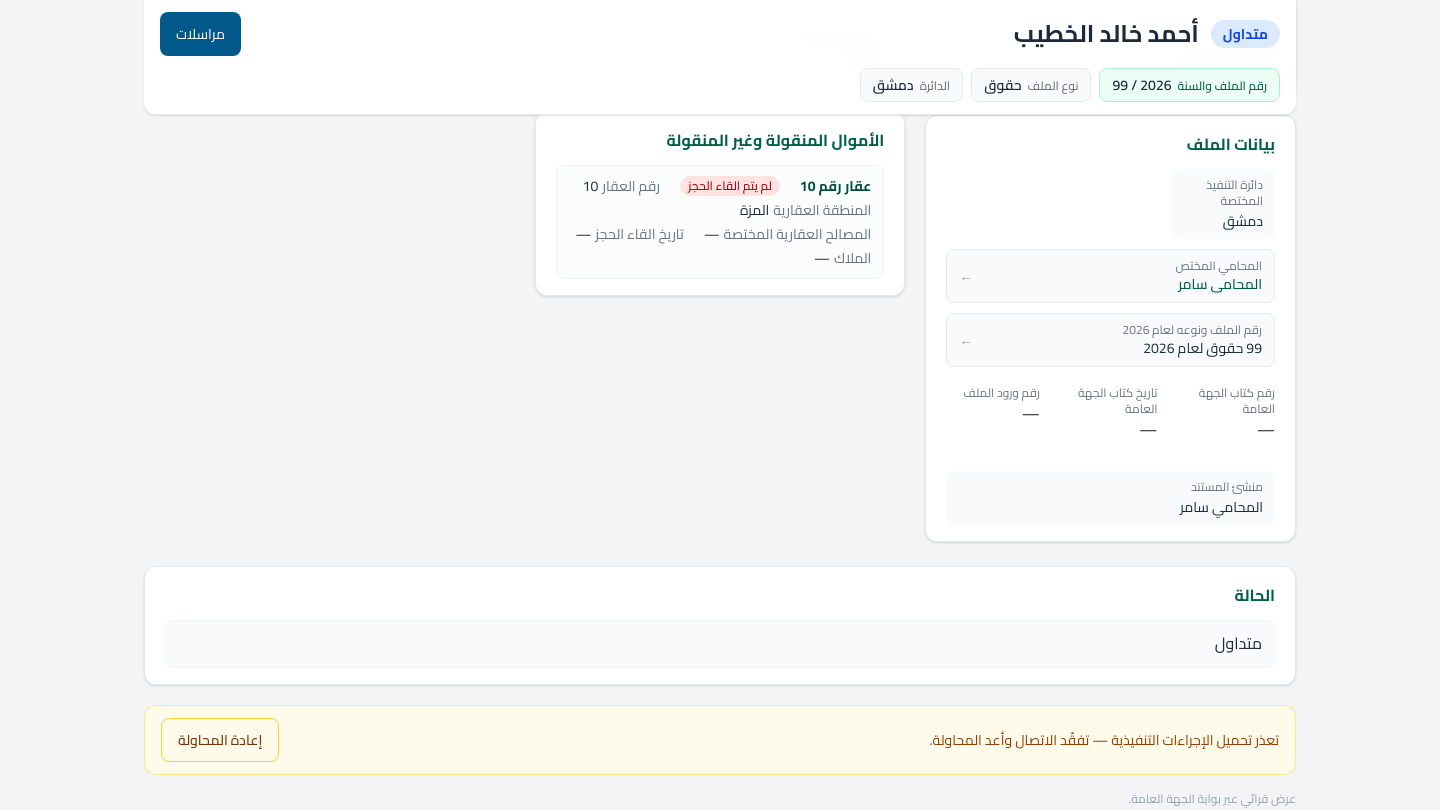
Test: PortalFileDetail المرآة القرائية › يعرض شريط إعادة المحاولة عند تعذر تحميل الإجراءات التنفيذية ثم يعيد التحميل بنجاح
(page scrolled)
Expected: the text "تعذر تحميل الإجراءات التنفيذية — تفقّد الاتصال وأعد المحاولة." is shown, x1=930 y1=730 x2=1279 y2=750
Click the button "إعادة المحاولة": x=220, y=740 x1=161 y1=718 x2=279 y2=762
(page scrolled)
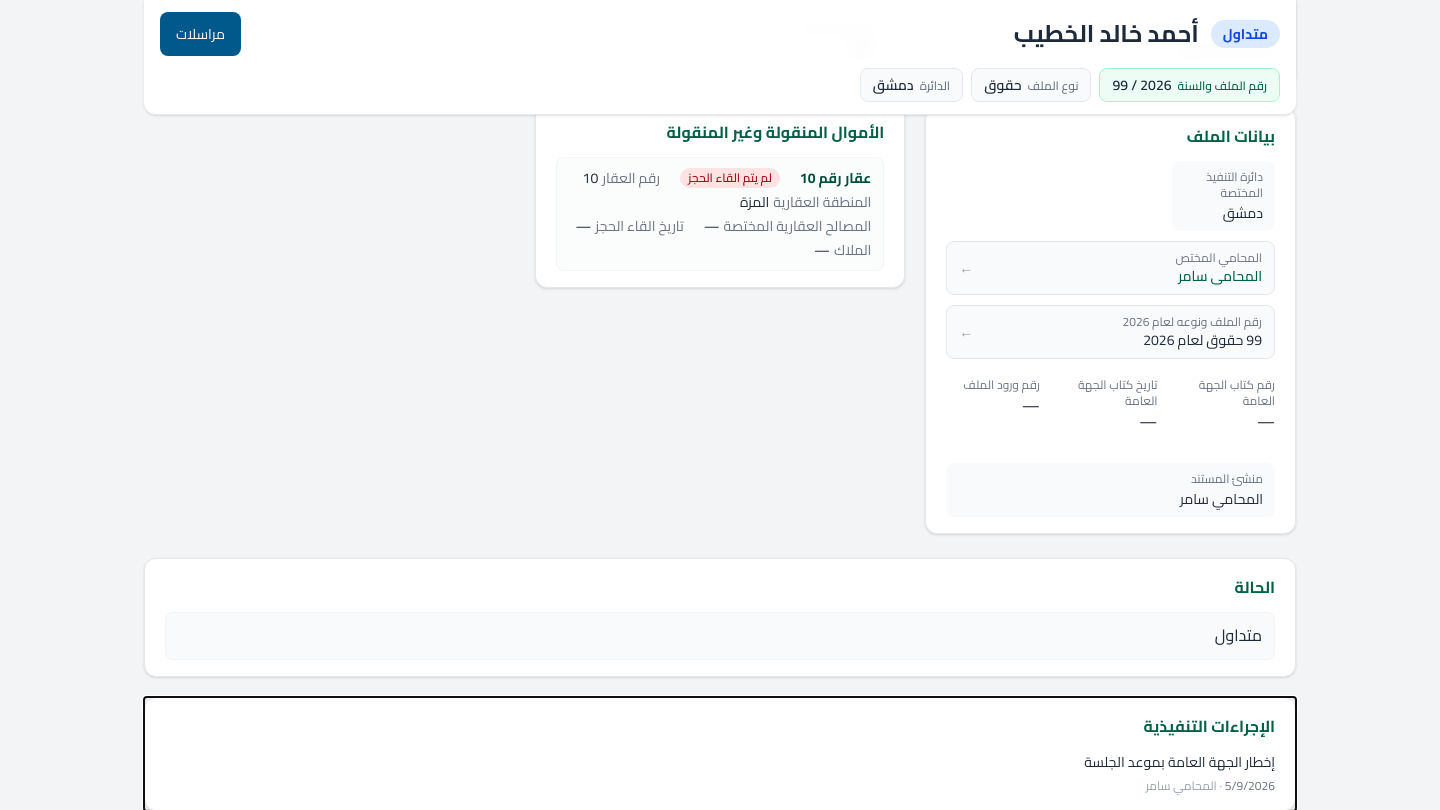
Result: the text "إخطار الجهة العامة بموعد الجلسة" is shown at x1=1084 y1=749 x2=1275 y2=775
Result: the button "إعادة المحاولة" is gone
